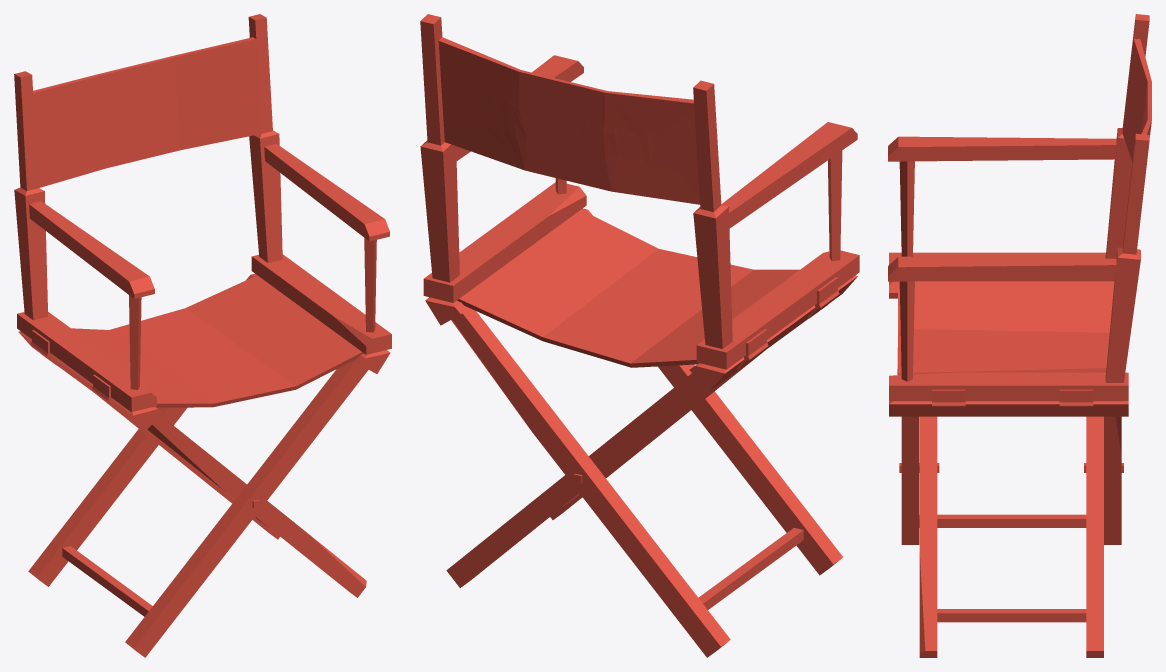
File: SM_Chair_Director_Text.fbx
The picture shows the model from 3 angles, left to right: view 1: azimuth 30°, elevation 25°; view 2: azimuth 150°, elevation 25°; view 3: azimuth 270°, elevation 25°; orthographic projection. The views are drawn at different scales.
Visible parts, largest first — view 1: SM_Chair_Director_Text; view 2: SM_Chair_Director_Text; view 3: SM_Chair_Director_Text.
Boxes of the visible parts, x1,y1,x2,y2 form: SM_Chair_Director_Text: (14, 14, 391, 657); SM_Chair_Director_Text: (420, 14, 859, 657); SM_Chair_Director_Text: (888, 14, 1151, 657).
Size of the model in its own units: 40.16 by 49.01 by 88.1.
